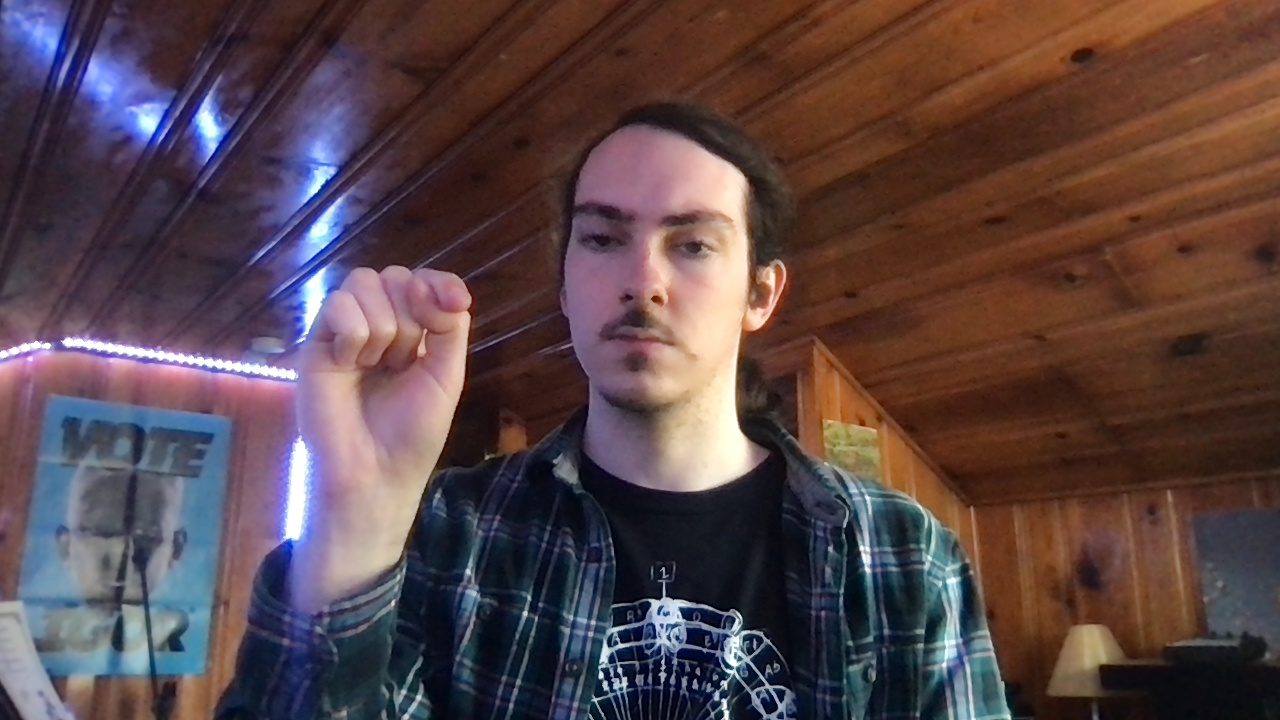t: (291, 262, 472, 486)
